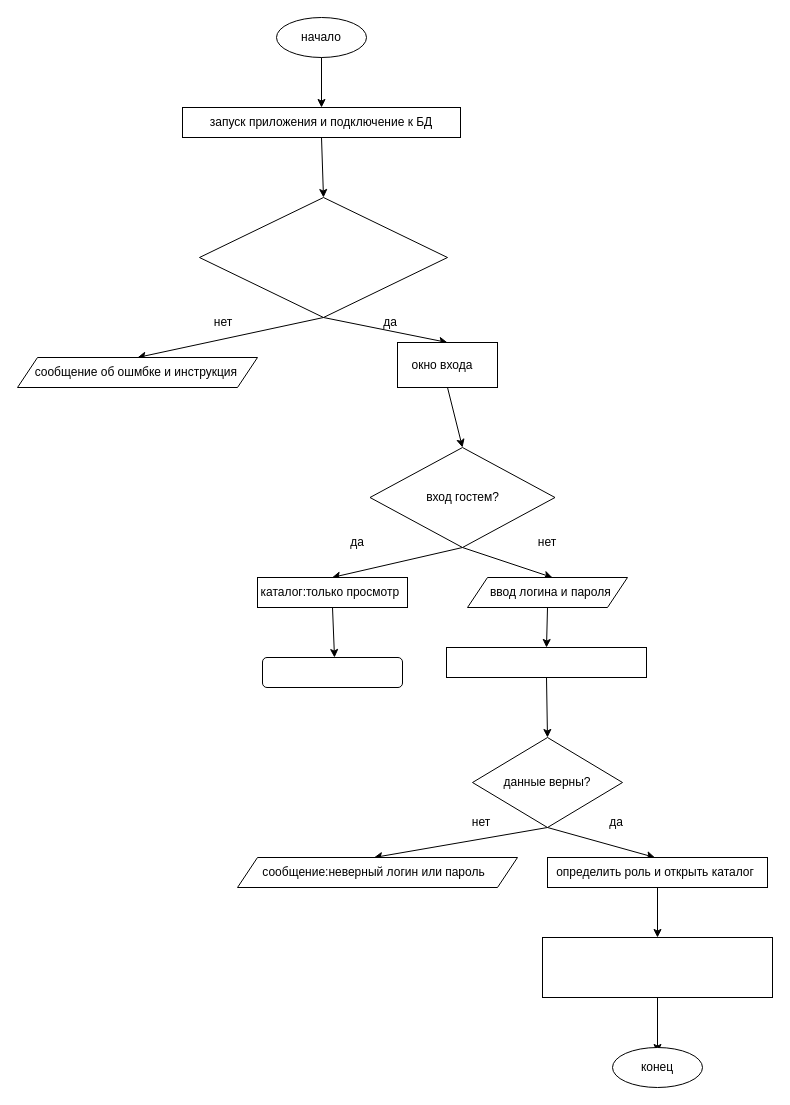
Some shapes in this 790 by 1105 pixel diagram are drawn without their labels. The shapes that lost their labels are listed below. From the top down, each one's box as (x1, y1, x2, y2) in pixels, then its label:
(198, 196, 448, 318): подключение доступно?
(262, 656, 402, 688): конец гостевого сеанса
(446, 646, 646, 678): проверить учётные данные в бд
(542, 936, 772, 998): клиент:просмотр менеджер: поиск,фильтр, сортировка админ:управление товарами
